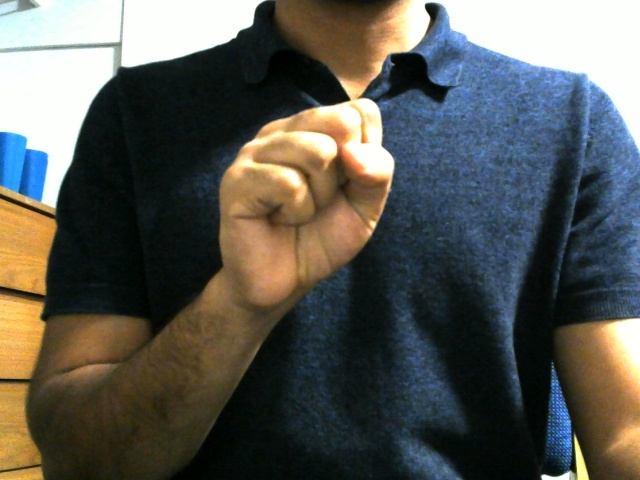S: (217, 96, 394, 303)
